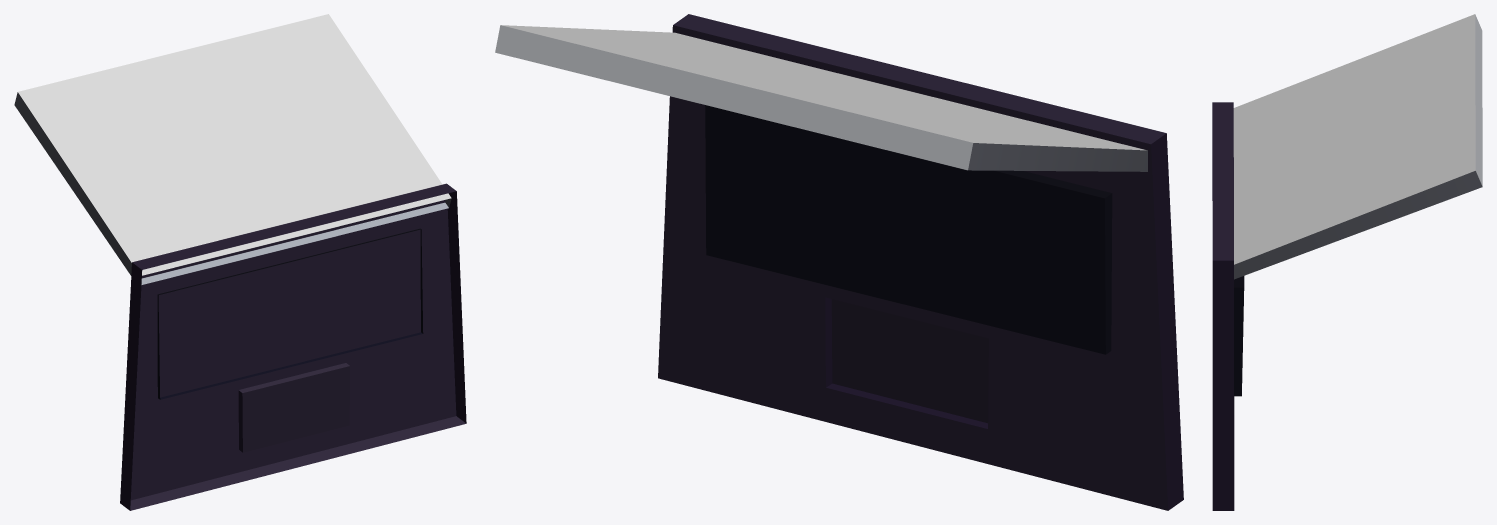
The model's file is djCadenceLaptop.fbx.
3 views of the same model, side by side, from view 1: azimuth 30°, elevation 25°; view 2: azimuth 150°, elevation 25°; view 3: azimuth 270°, elevation 25° (orthographic). The views are drawn at different scales.
Visible parts, largest first — view 1: djCadenceLaptop; view 2: djCadenceLaptop; view 3: djCadenceLaptop.
Part boxes in pixels (x1,y1,x2,y2): djCadenceLaptop: (14, 14, 466, 510); djCadenceLaptop: (495, 14, 1183, 510); djCadenceLaptop: (1212, 14, 1482, 510).
Bounding box in the file's own units: 40.68 × 37.65 × 27.15.
